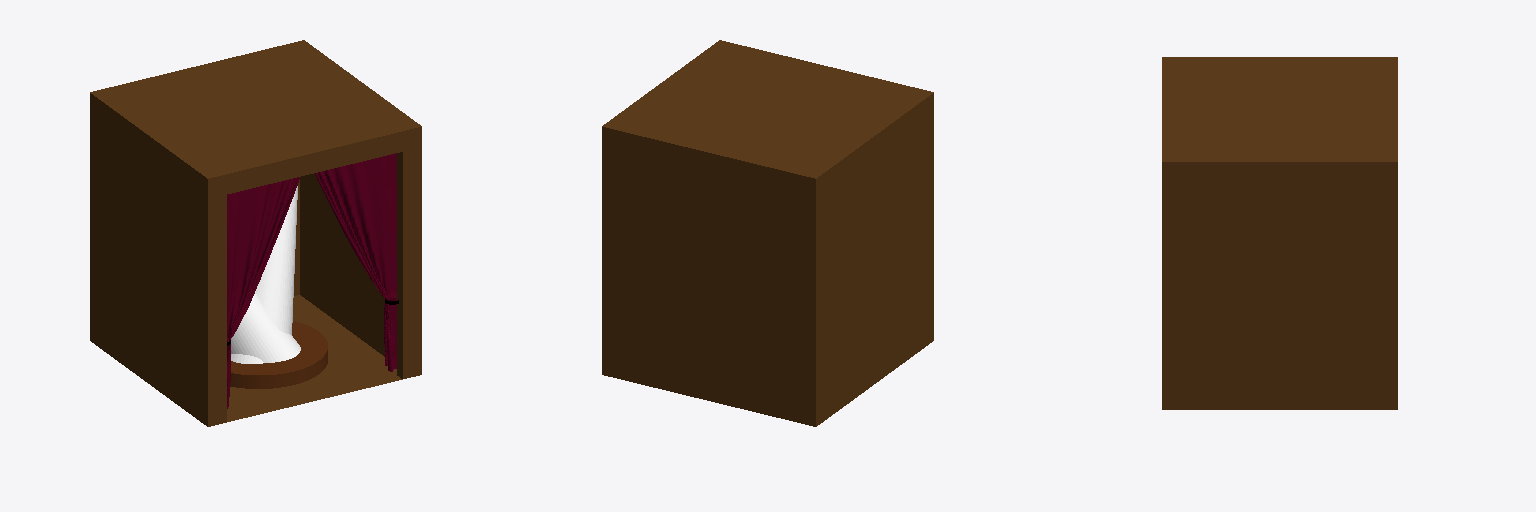
Rendered from theatre.obj.
3 views of the same model, side by side, from view 1: azimuth 30°, elevation 25°; view 2: azimuth 150°, elevation 25°; view 3: azimuth 270°, elevation 25° (orthographic).
Parts seen in each view (by area): view 1: Box, Plane.001, Plane, Light_Cone, Cylinder, Light_Cone.002; view 2: Box; view 3: Box.
Boxes of the visible parts, box(x1,y1,x2,y2) form: Box: box(90, 40, 421, 426); Plane.001: box(315, 153, 396, 371); Plane: box(227, 177, 299, 408); Light_Cone: box(231, 186, 297, 363); Cylinder: box(230, 321, 327, 388); Light_Cone.002: box(231, 291, 300, 362); Box: box(602, 40, 933, 426); Box: box(1162, 57, 1397, 409).
Bounding box in the file's own units: 13.2 × 17.24 × 12.6.